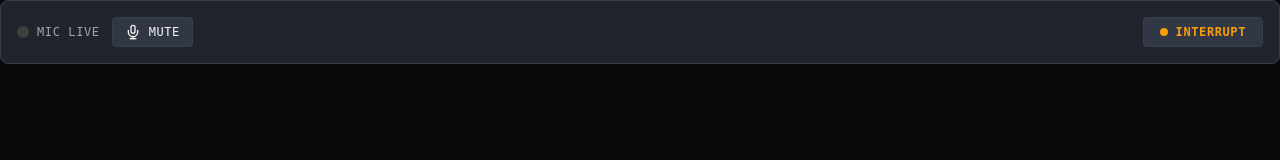
Test: ControlDeck Hardware Control Pod Suite › toggles aria-checked state when mute switch is clicked and dispatches toggleMute
This screenshot has width=1280, height=160.
Click the switch labelled "Mute".
click(152, 32)  # box [112, 17, 193, 47]
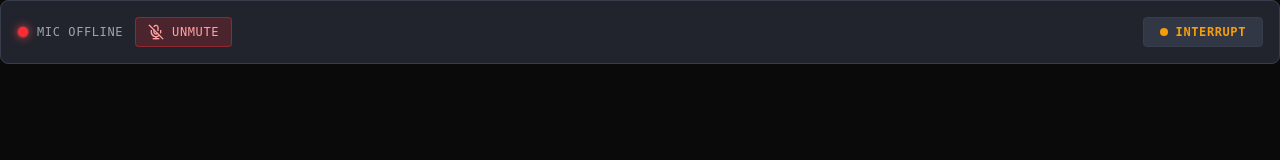
expect the switch labelled "Unmute" is checked: met, box [135, 17, 232, 47]
